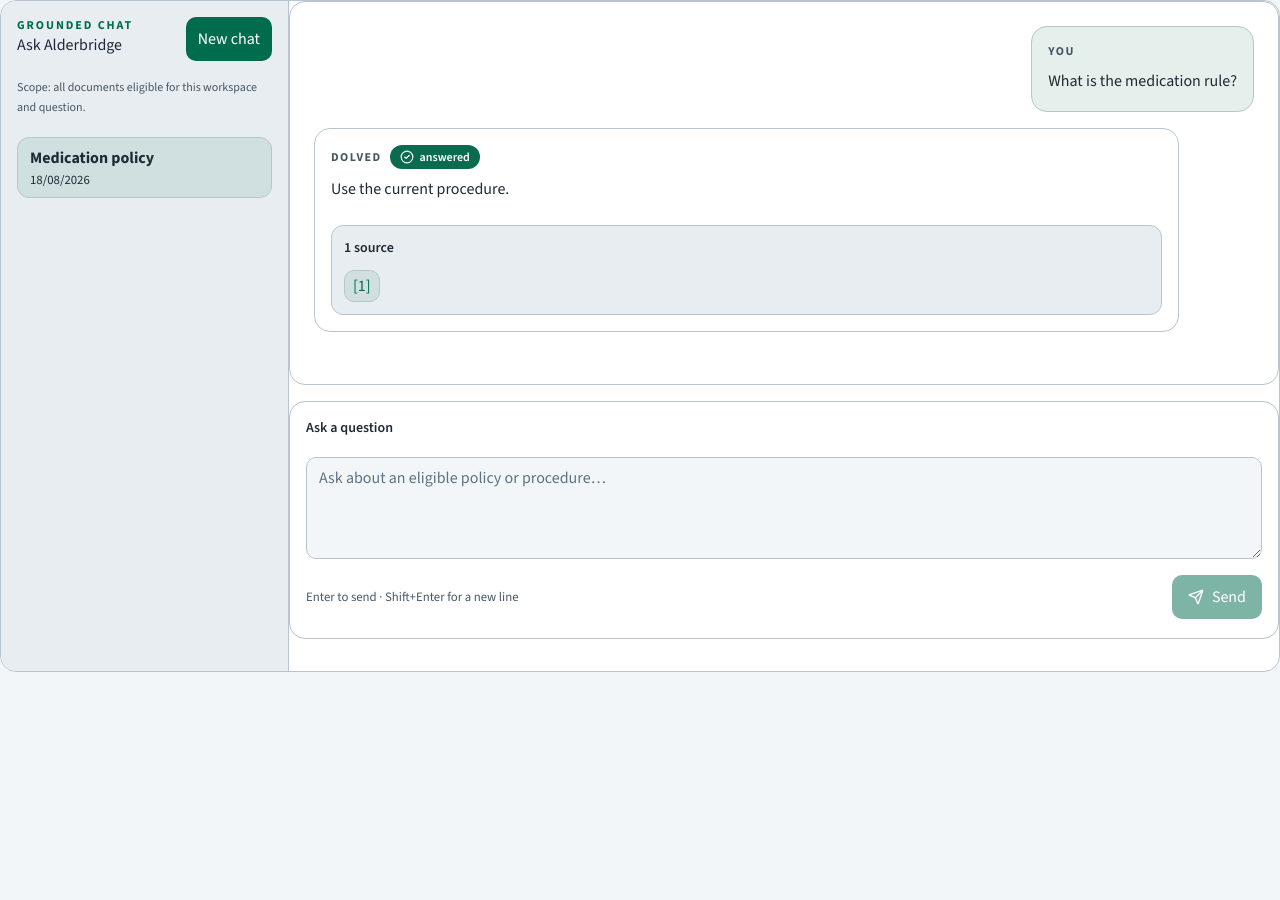
Test: ChatWorkspace › renders durable citation evidence after reopening a conversation
Click the button named "[1], show source evidence": [362, 286] box 344,270 -> 380,302
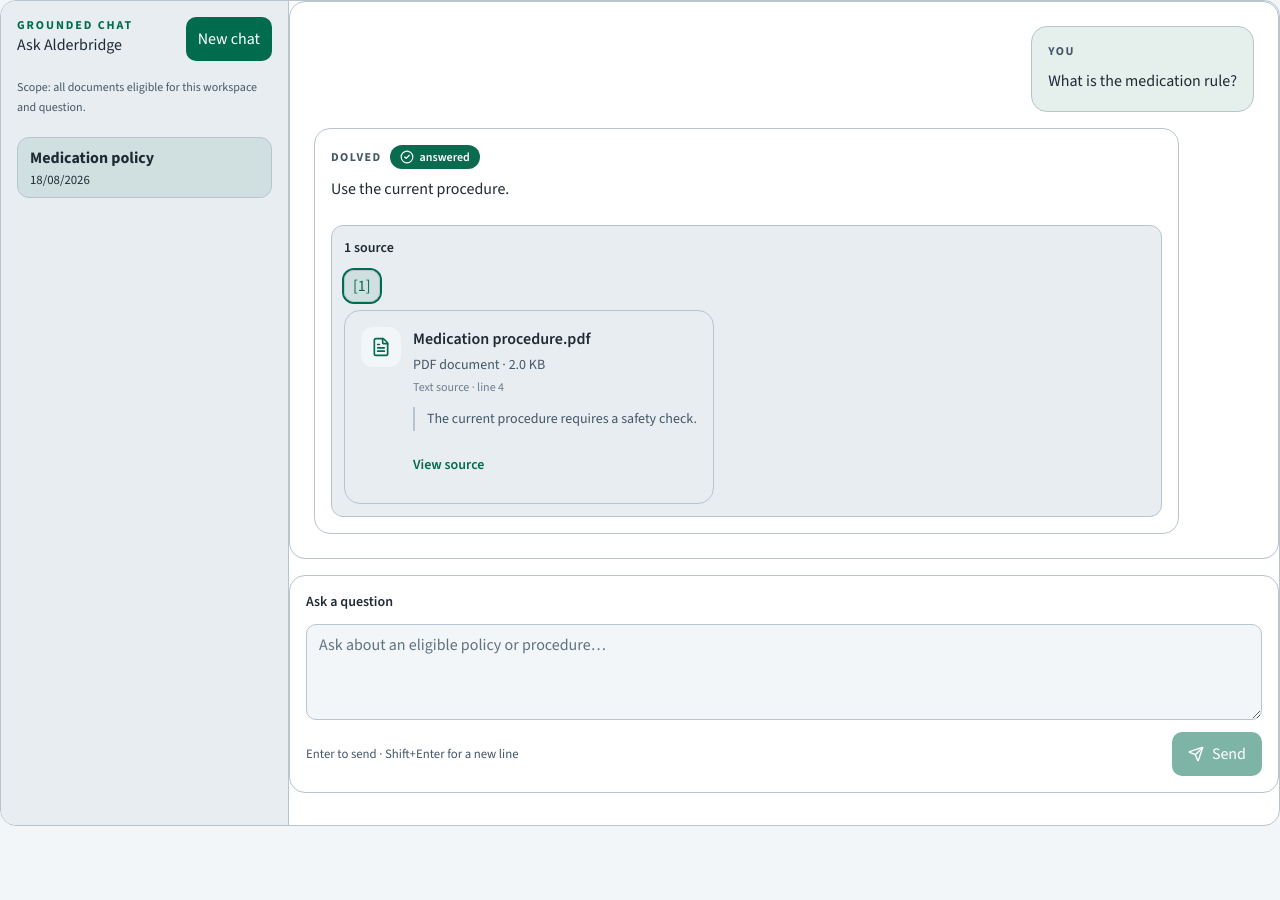
Expected: the heading "Medication procedure.pdf" is shown, 413,328 -> 590,349
Expected: the text "The current procedure requires a safety check." is shown, 413,407 -> 697,431
Expected: the text "Text source · line 4" is shown, 413,379 -> 504,395
